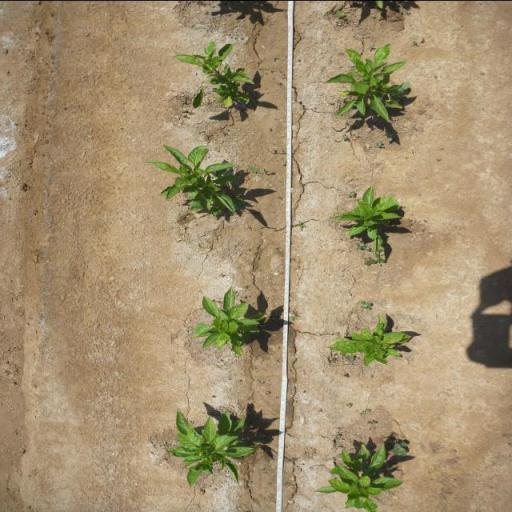plant: (163, 407, 265, 488), (144, 140, 244, 218), (312, 441, 405, 512), (170, 36, 256, 112), (323, 45, 408, 121), (188, 287, 270, 355), (326, 311, 417, 368), (326, 184, 403, 250)
weed: (362, 250, 388, 267), (392, 80, 411, 101), (392, 438, 411, 455), (246, 164, 270, 176), (384, 126, 398, 141), (334, 10, 349, 20), (288, 310, 301, 321), (360, 299, 372, 310), (297, 220, 308, 231), (344, 354, 356, 362), (355, 240, 365, 249), (359, 408, 371, 415), (346, 189, 356, 196), (375, 140, 386, 146), (344, 402, 354, 408), (366, 420, 378, 424), (364, 244, 371, 250), (281, 159, 288, 165), (264, 390, 272, 395), (342, 133, 348, 139), (335, 432, 341, 438)
